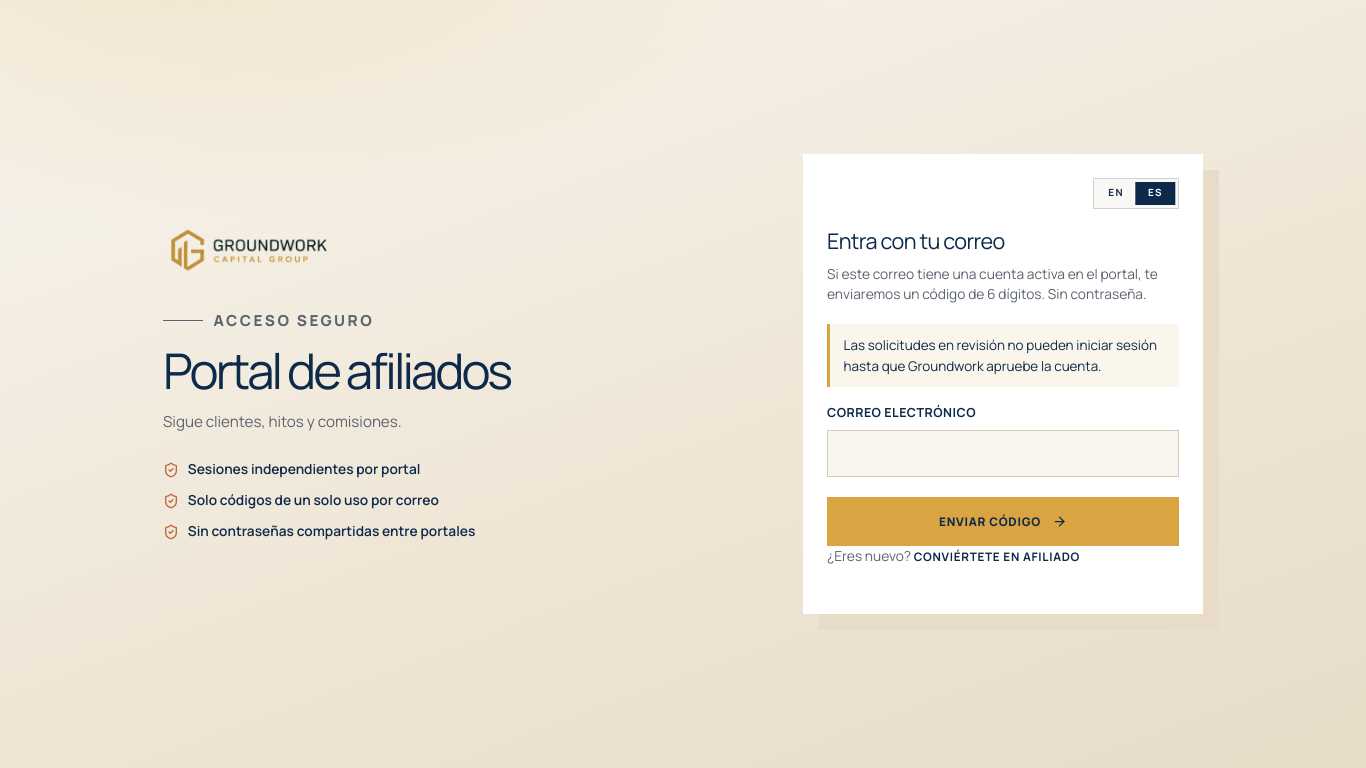
Scenario: PortalLoginPage › rate limiting surfaces errors.tooMany in the UI language
Type "pat@example.com" into the field labelled "Correo electrónico" at [1003, 453], box [827, 430, 1179, 477]
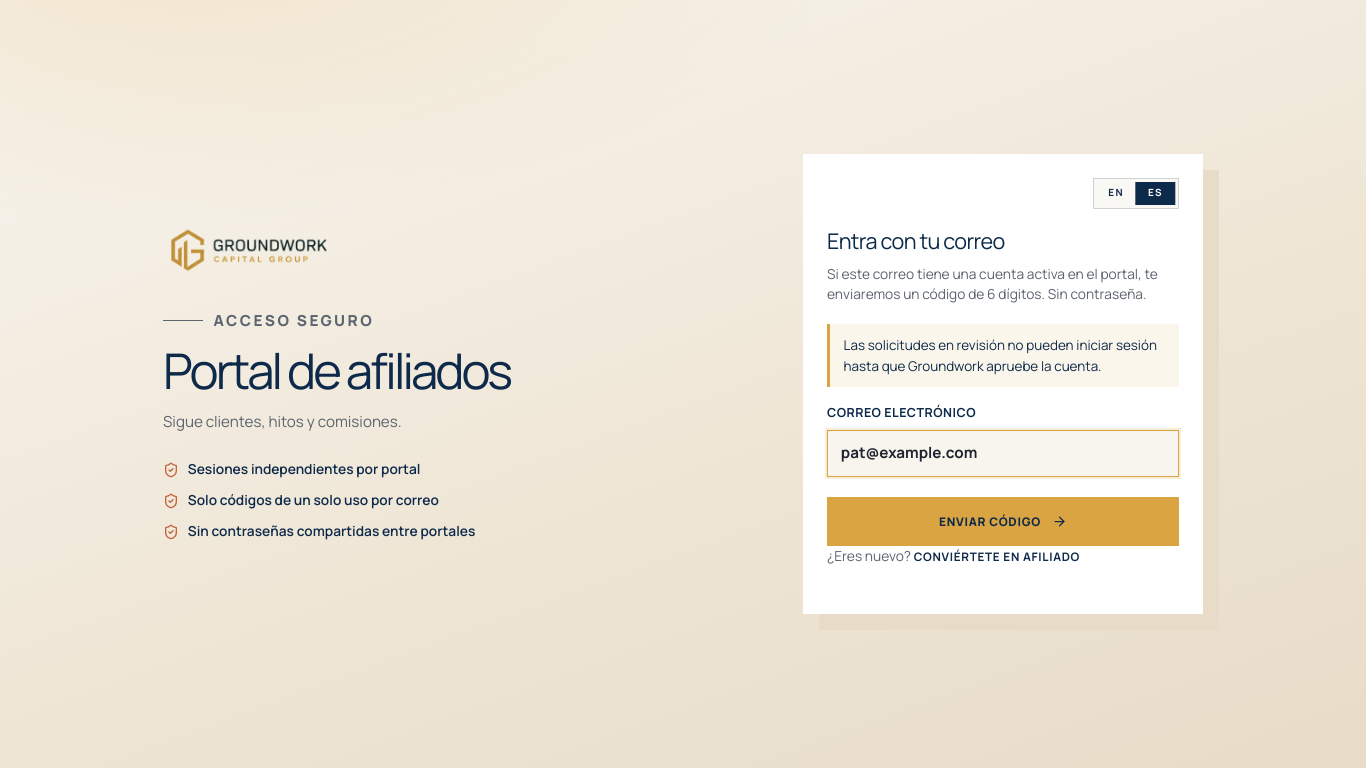
Click the button "Enviar código" at [1003, 522], box [827, 497, 1179, 546]
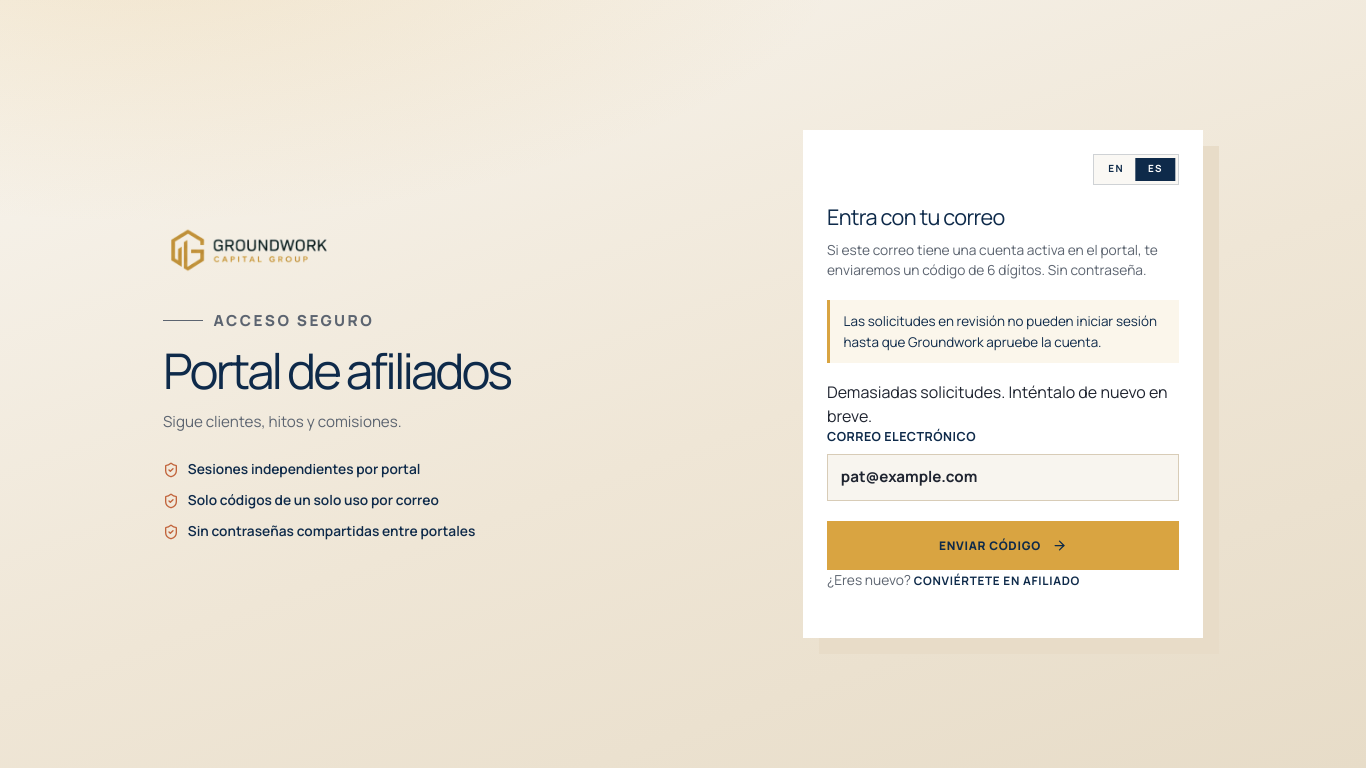
expect the message reads "Demasiadas solicitudes. Inténtalo de nuevo en breve.": met, box [827, 382, 1168, 428]
